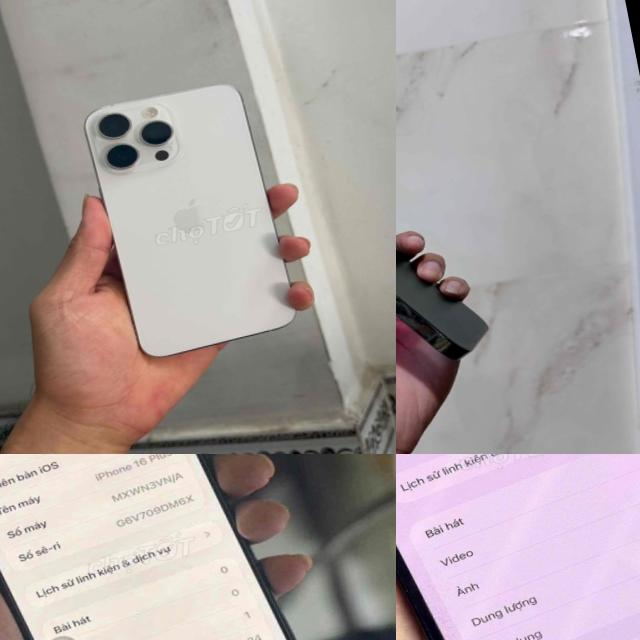gen_12_13: (396, 114, 504, 406)
gen_14: (396, 454, 640, 640)
gen_15: (59, 64, 316, 386)
gen_16: (0, 454, 295, 640)
